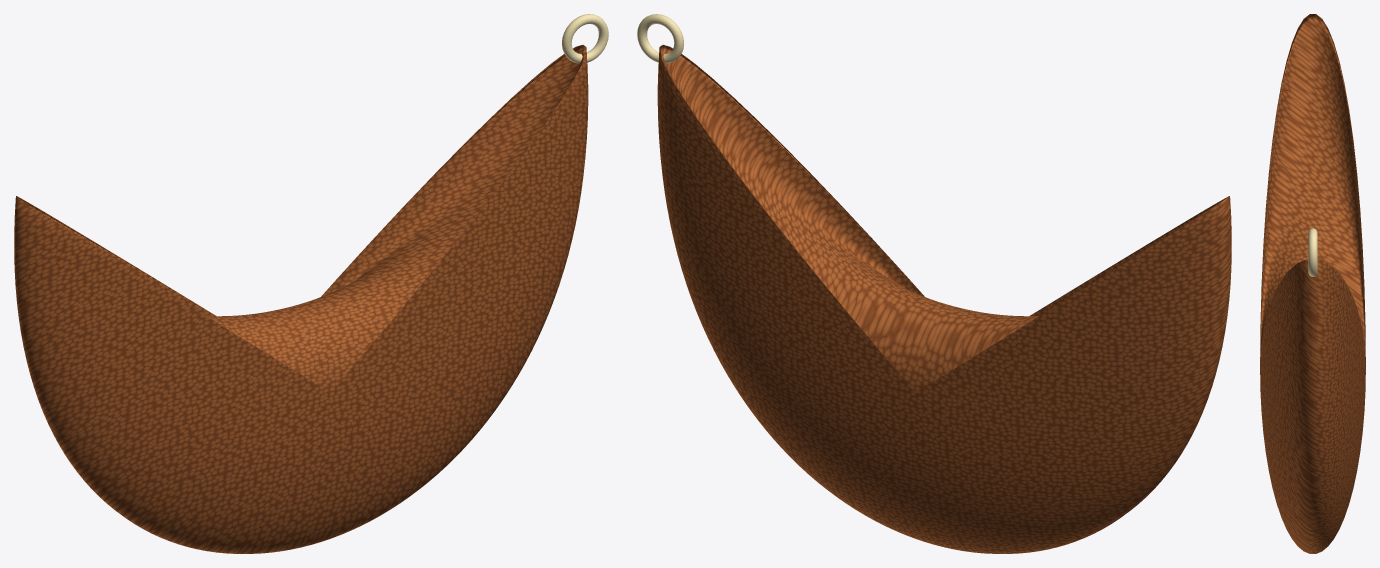
File: aurelis_hobo_bag.glb
3 renders of one model, left to right at view 1: azimuth 30°, elevation 25°; view 2: azimuth 150°, elevation 25°; view 3: azimuth 270°, elevation 25°, orthographic. The views are drawn at different scales.
Parts seen in each view (by area): view 1: HoboBag_Body, HoboBag_Hardware_Buckle; view 2: HoboBag_Body, HoboBag_Hardware_Buckle; view 3: HoboBag_Body, HoboBag_Hardware_Buckle.
Part boxes in pixels (x1=…): HoboBag_Body: x1=14, y1=45, x2=588, y2=553; HoboBag_Hardware_Buckle: x1=562, y1=14, x2=608, y2=63; HoboBag_Body: x1=657, y1=45, x2=1231, y2=553; HoboBag_Hardware_Buckle: x1=637, y1=14, x2=683, y2=63; HoboBag_Body: x1=1260, y1=14, x2=1365, y2=553; HoboBag_Hardware_Buckle: x1=1308, y1=228, x2=1317, y2=276.
Size of the model in its own units: 0.2877 by 0.2138 by 0.048.
Materials: 2 (1 with a texture image).
